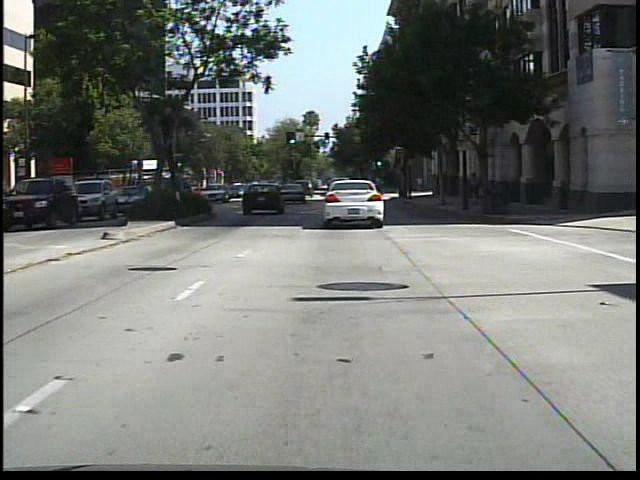person: (467, 166, 485, 209)
